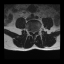CCS_severe_stenosis: (33, 29, 34, 35)
LFS_stenosis: (35, 29, 37, 33)
LLS_stenosis: (34, 29, 35, 34)
RFS_stenosis: (30, 29, 31, 33)
RLS_stenosis: (31, 29, 33, 34)
